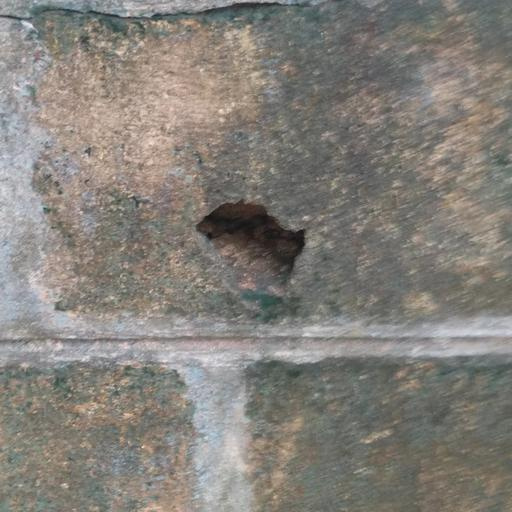spalling: (159, 141, 309, 307)
